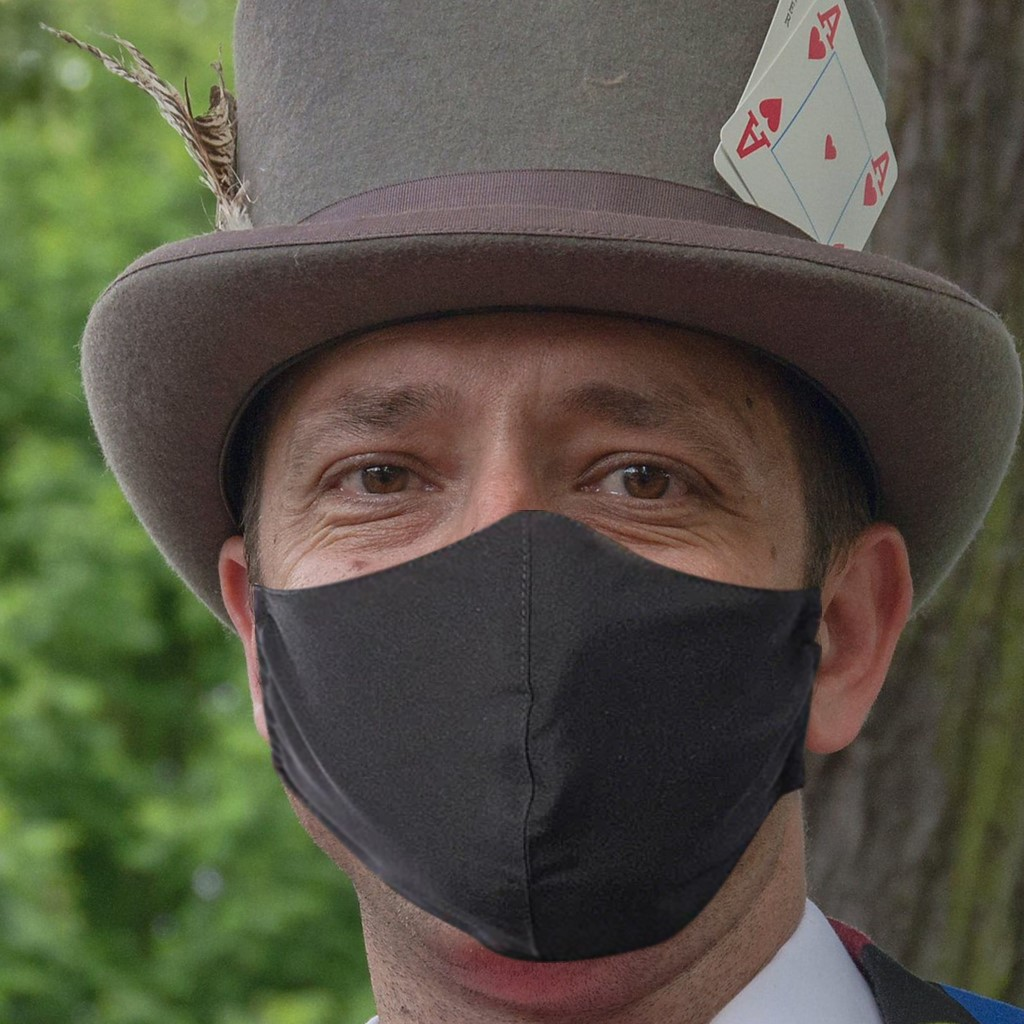con_mascara: (231, 270, 839, 950)
